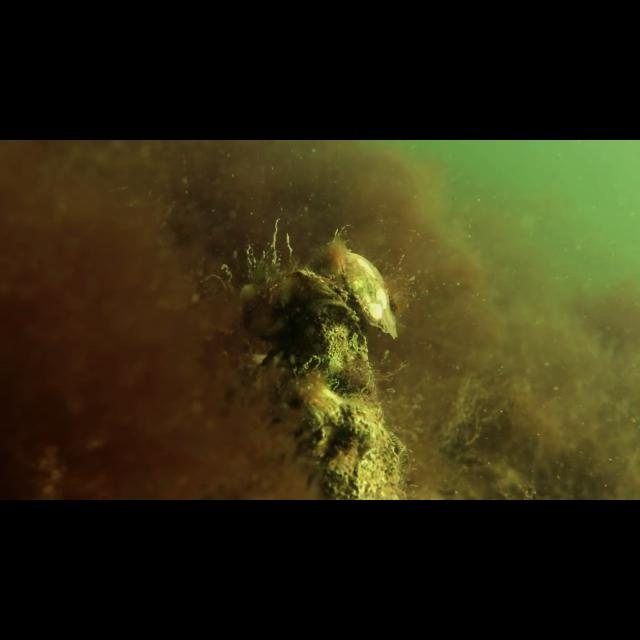Oyster-Closed: (323, 239, 406, 342), (240, 267, 346, 342), (294, 298, 376, 381)
